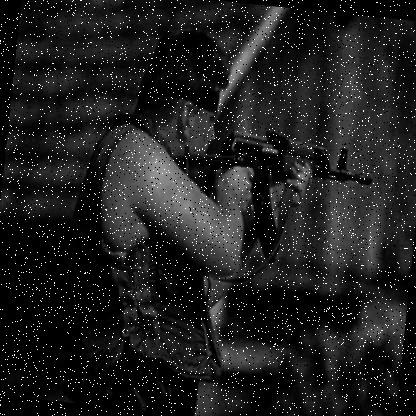rifle: (159, 117, 377, 270)
